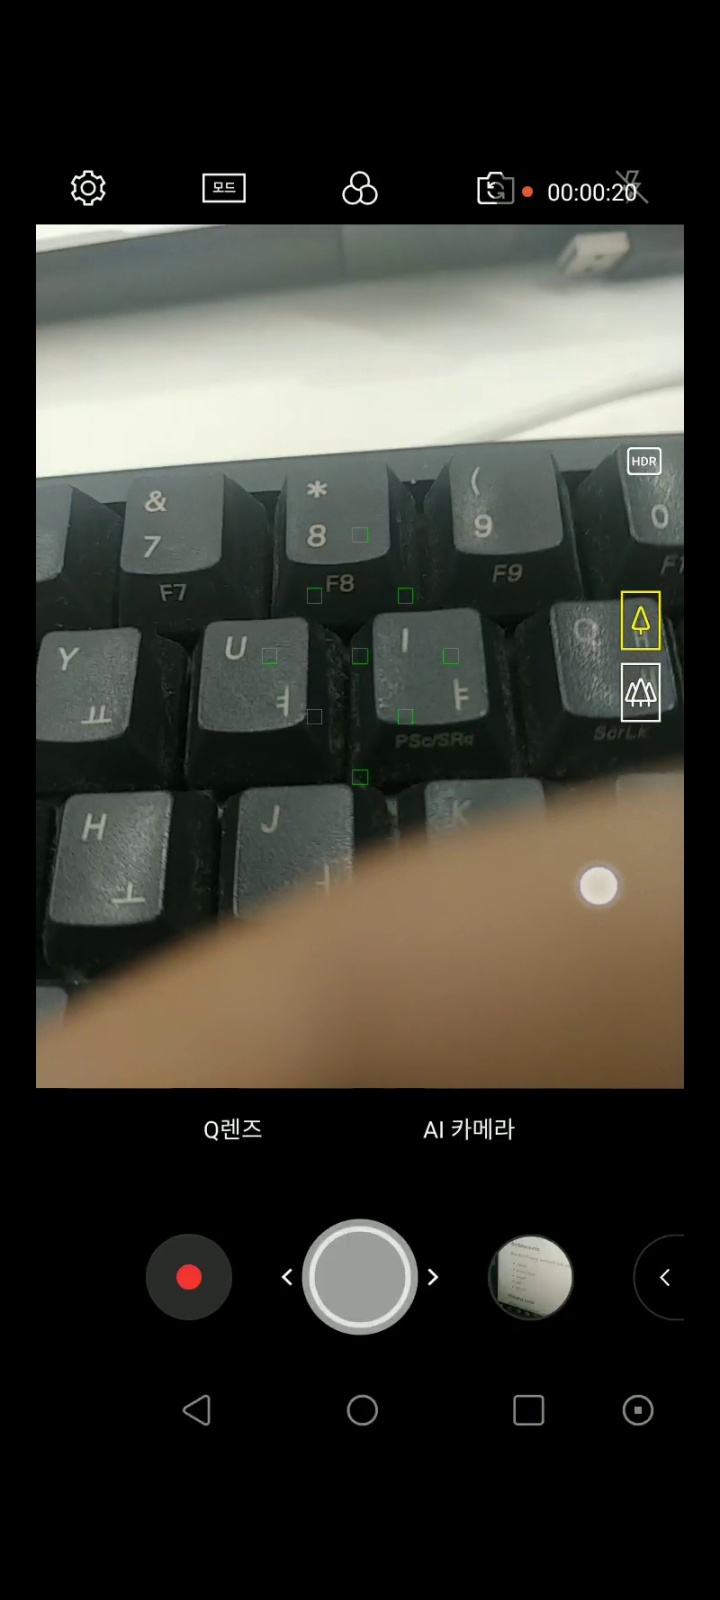Cursor: (576, 863, 621, 908)
